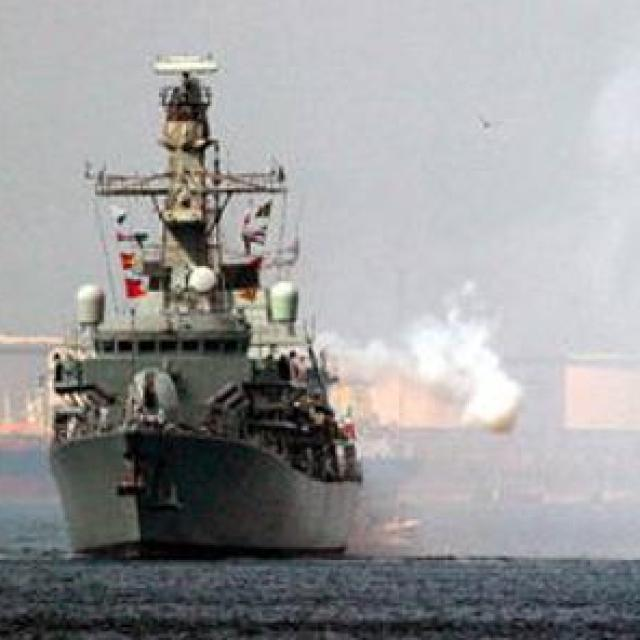navalvessels: (28, 45, 374, 558)
